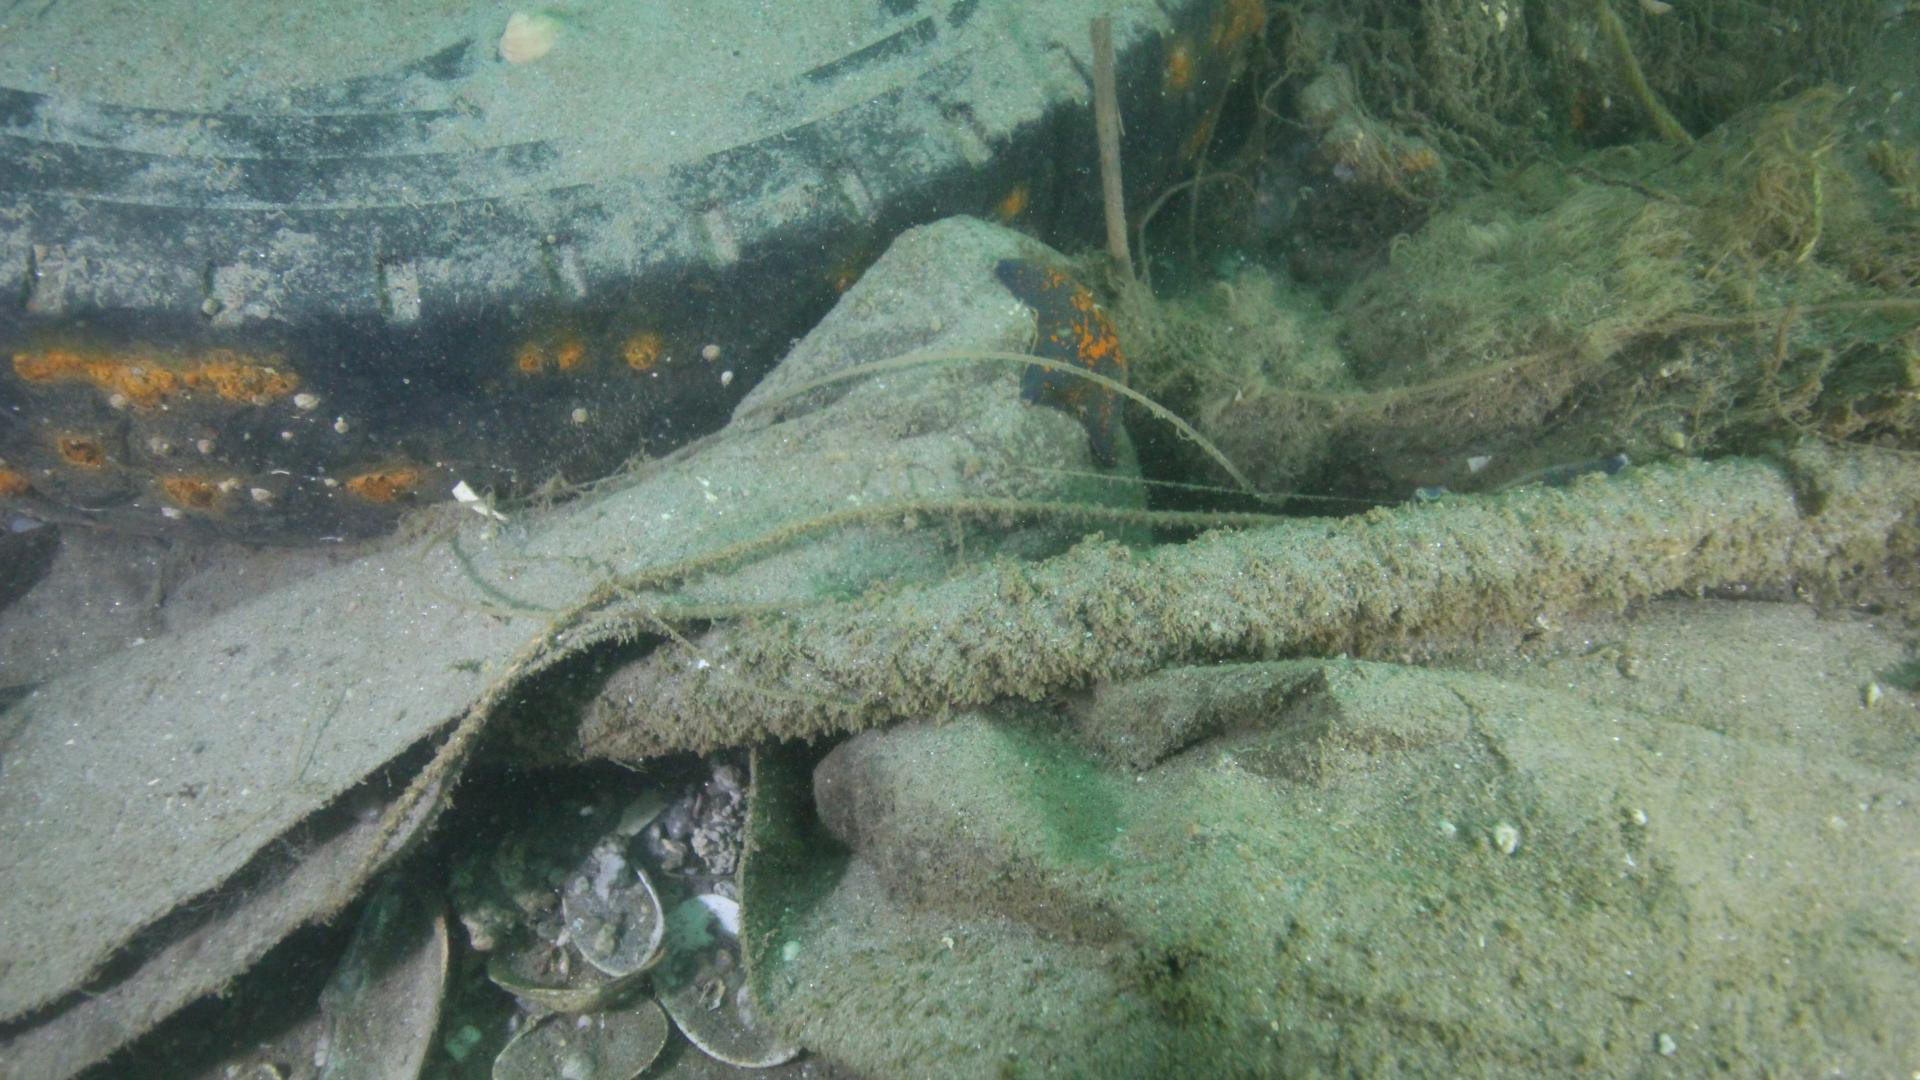fish net: (1353, 0, 1528, 152)
rope: (483, 442, 1920, 760)
